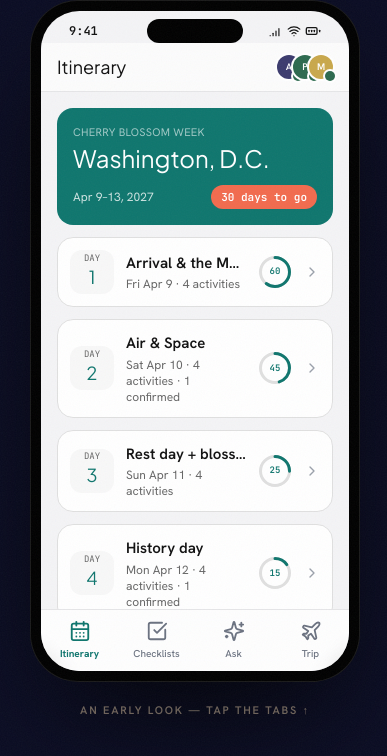
Test: AppMockup › counts the packing list against the real checklist data
Click the button "Checklists": (156, 640) left=118, top=616, right=195, bottom=665
(page scrolled)
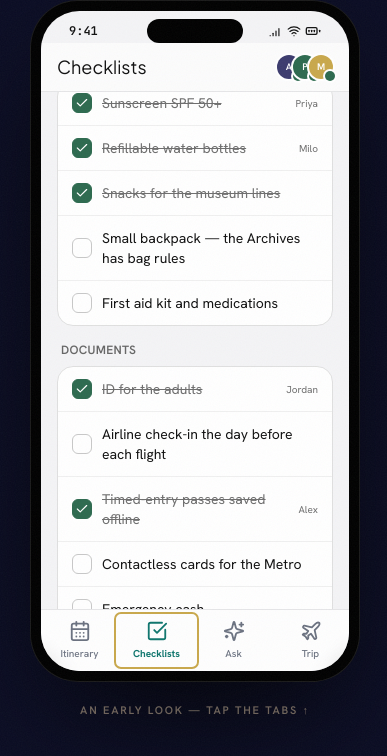
Result: the text "Documents" is shown at left=61, top=342, right=136, bottom=358
